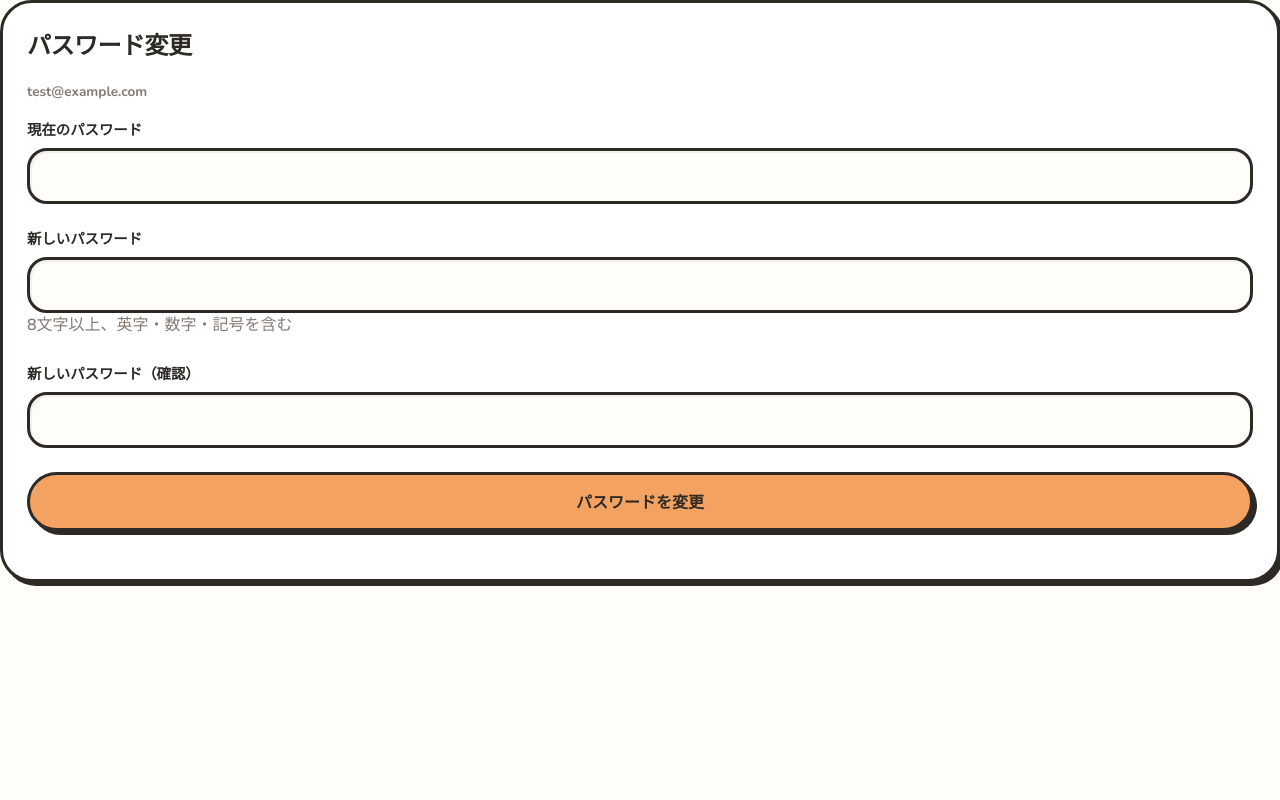
it: ChangePasswordPage › API連携 › 現在のパスワード不正時にエラーメッセージが表示される
The width and height of the screenshot is (1280, 800).
Type "wrong" into the password field labelled "現在のパスワード". click: point(640, 176)
box: [27,148,1253,204]
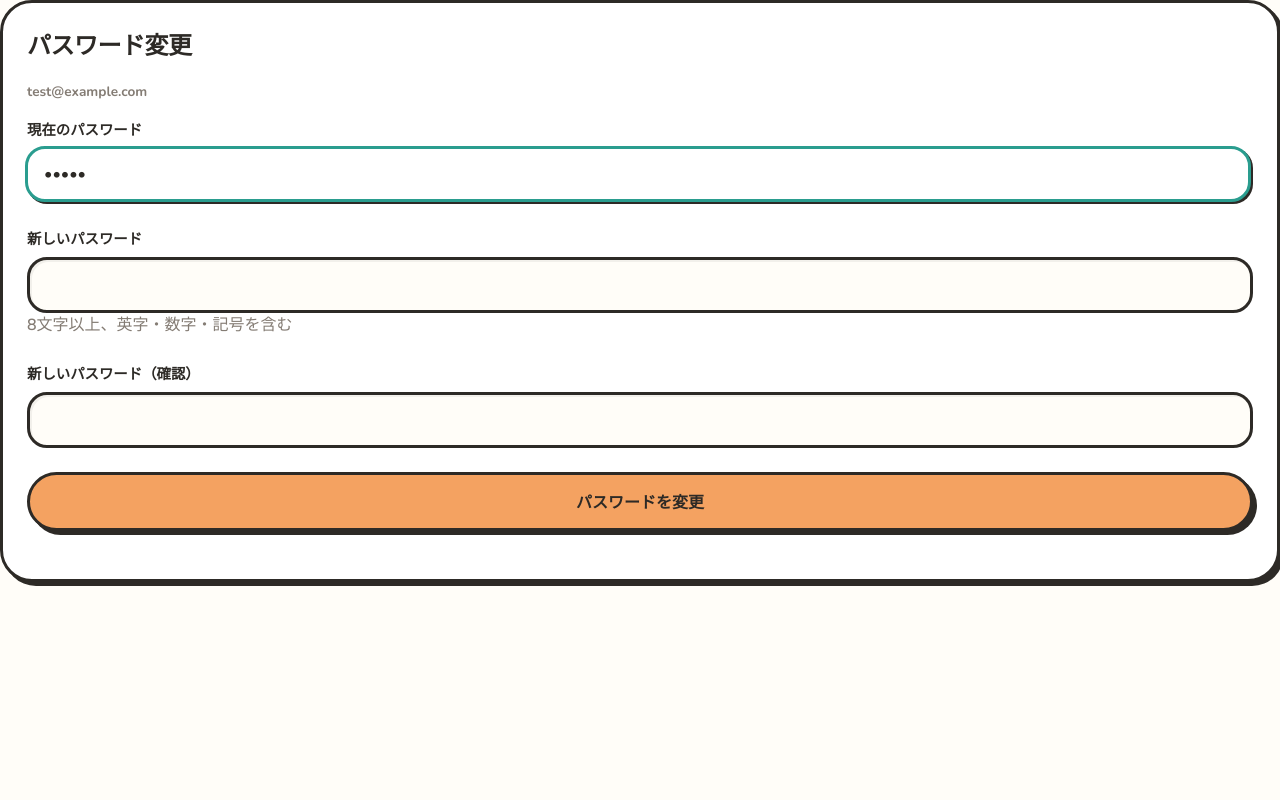
Type "NewPass1!" into the password field labelled "新しいパスワード". click: point(640, 285)
box: [27,257,1253,313]
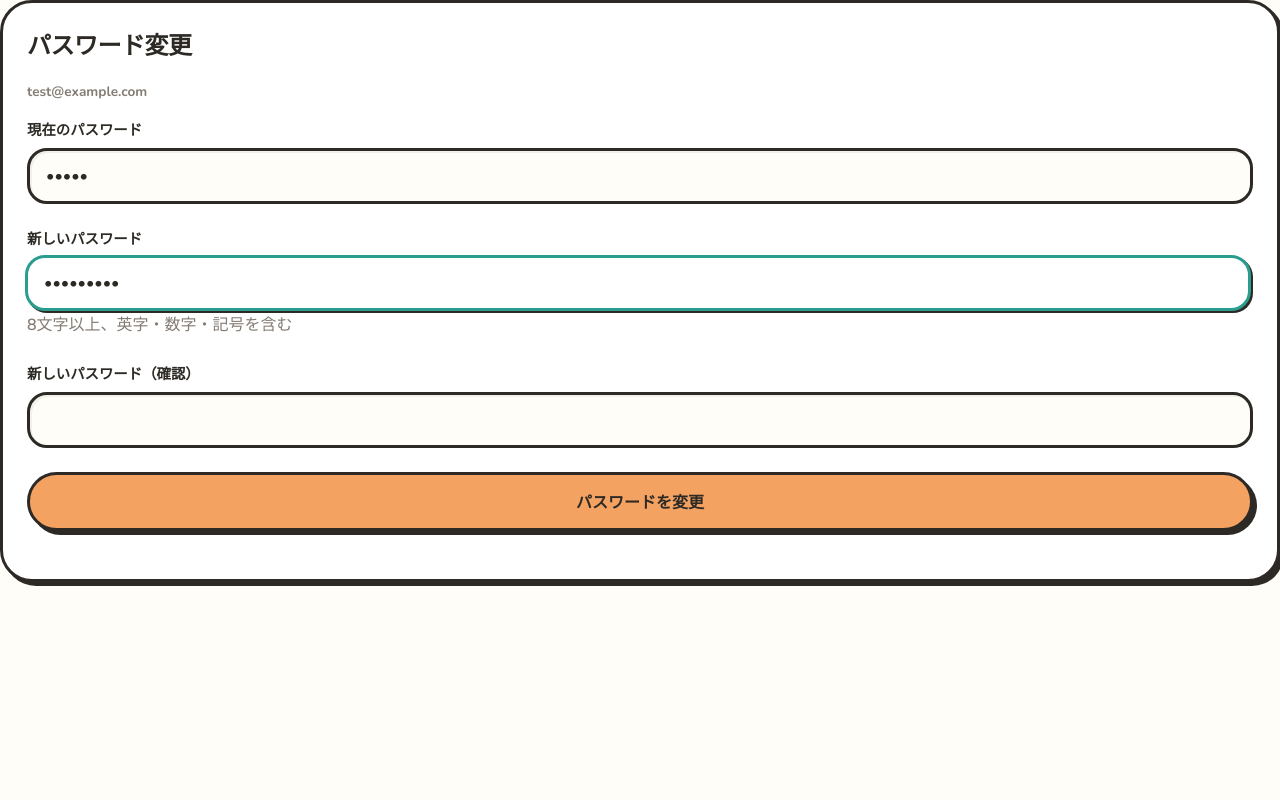
Type "NewPass1!" into the password field labelled "新しいパスワード（確認）". click: point(640, 420)
box: [27,392,1253,448]
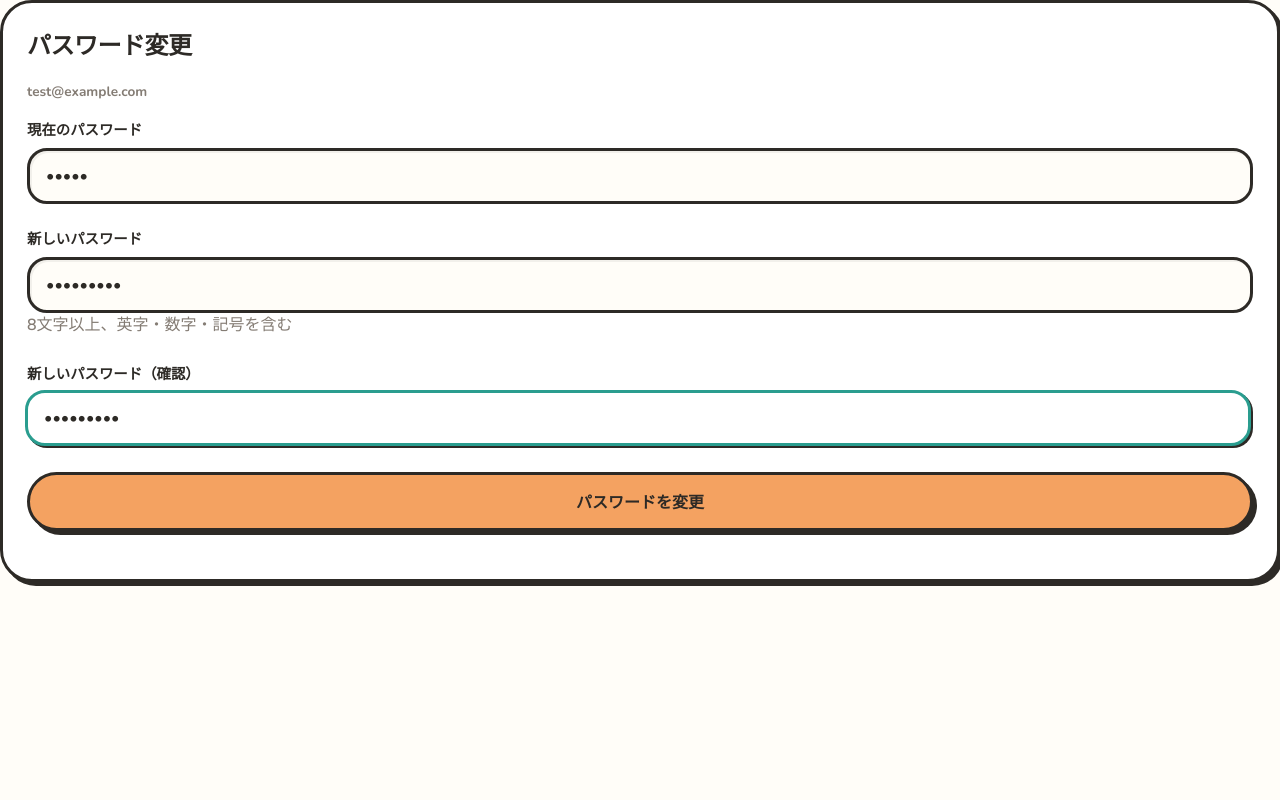
Click the button "パスワードを変更". click: point(640, 501)
box: [27,472,1253,531]
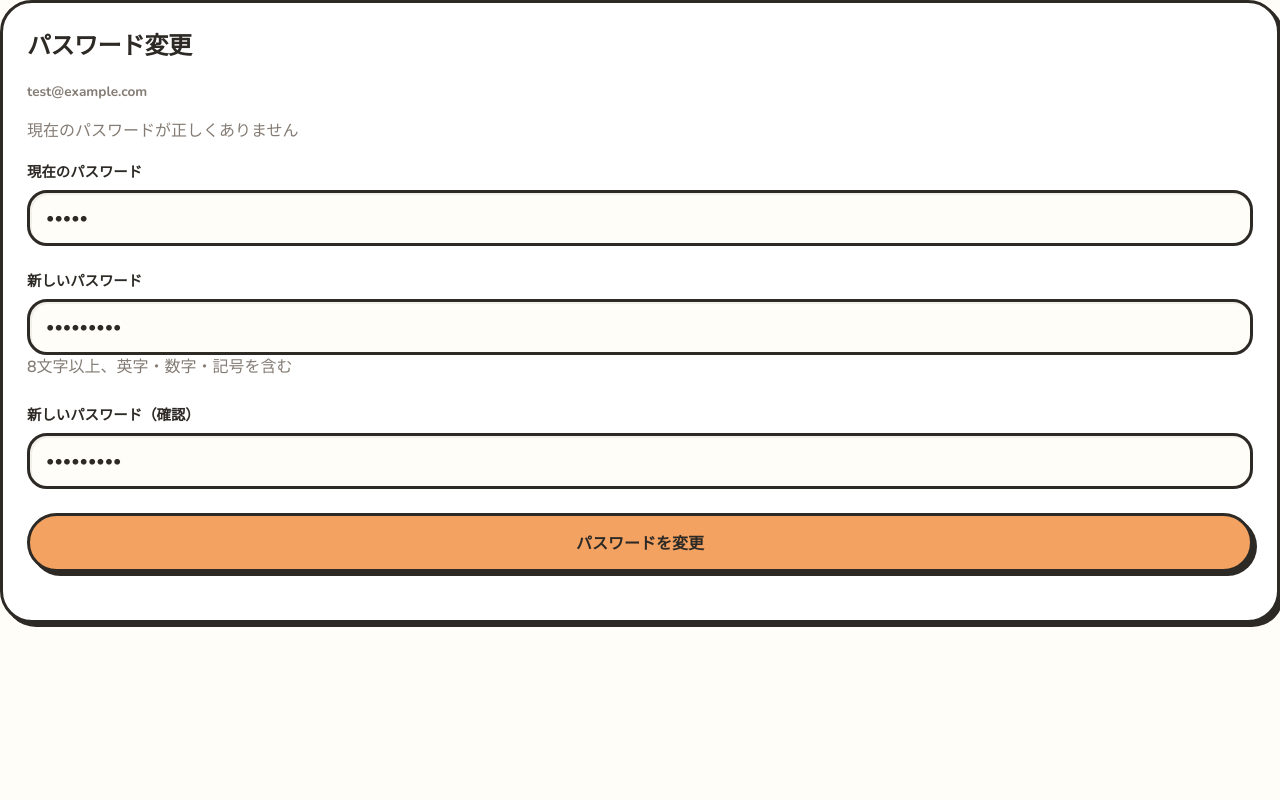
Expected: the text "現在のパスワードが正しくありません" is shown, [27,120,298,142]
